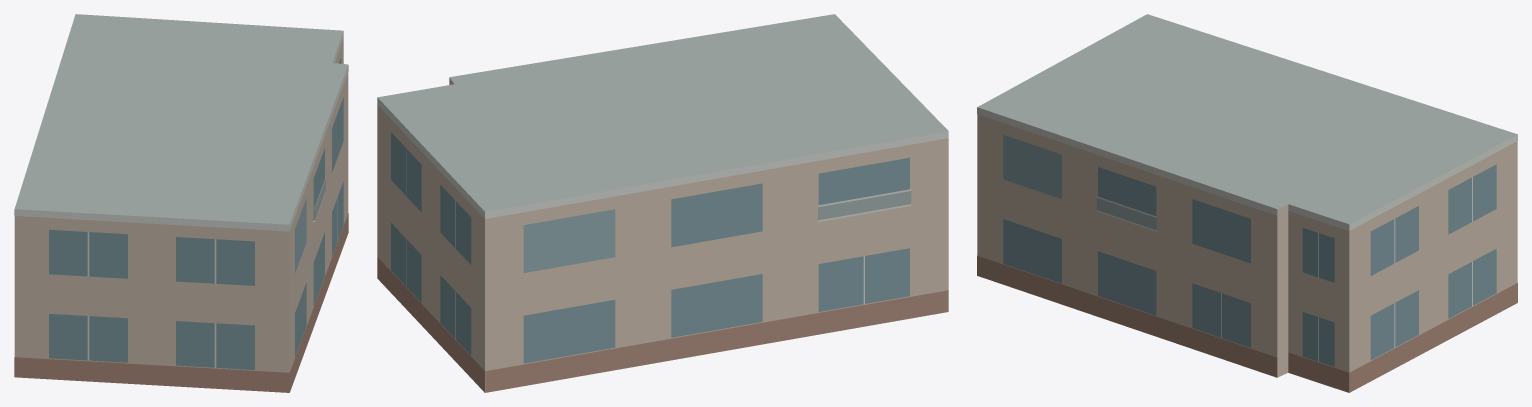
Rendered from survey-upis-32723043.glb.
3 renders of one model, left to right at view 1: azimuth 30°, elevation 25°; view 2: azimuth 150°, elevation 25°; view 3: azimuth 270°, elevation 25°, orthographic. The views are drawn at different scales.
Visible parts, largest first — view 1: survey-upis-32723043.tmp; view 2: survey-upis-32723043.tmp; view 3: survey-upis-32723043.tmp.
Part boxes in pixels (<box>): survey-upis-32723043.tmp: <box>14,14,348,392</box>; survey-upis-32723043.tmp: <box>377,14,948,392</box>; survey-upis-32723043.tmp: <box>977,14,1517,392</box>.
Size of the model in its own units: 16.33 by 6.1 by 17.73.
